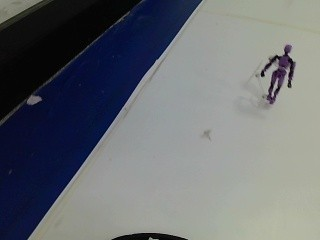pedestrian: (245, 31, 304, 106)
